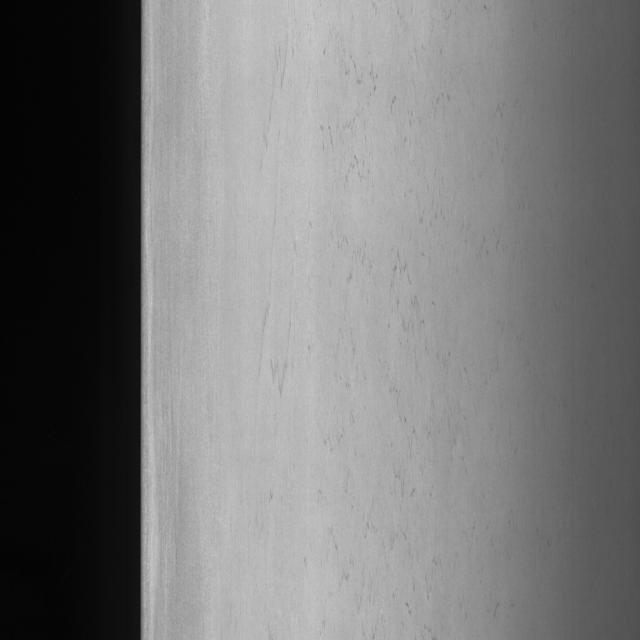inclusion: (247, 51, 517, 602)
